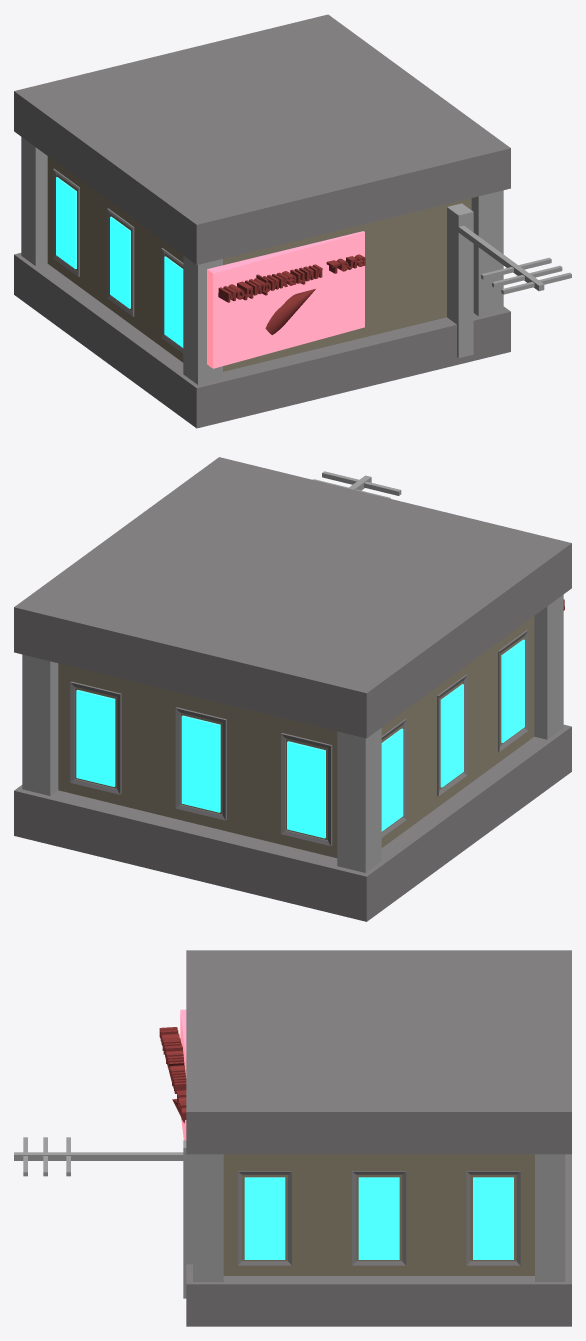
3 views of the same model, one above another, from view 1: azimuth 30°, elevation 25°; view 2: azimuth 150°, elevation 25°; view 3: azimuth 270°, elevation 25° (orthographic). The views are drawn at different scales.
Parts seen in each view (by area): view 1: Cube.002; view 2: Cube.002; view 3: Cube.002.
Part boxes in pixels (<box>): Cube.002: <box>14,14,571,428</box>; Cube.002: <box>14,457,571,921</box>; Cube.002: <box>14,950,571,1326</box>.
Size of the model in its own units: 13.17 by 8.16 by 19.21.
